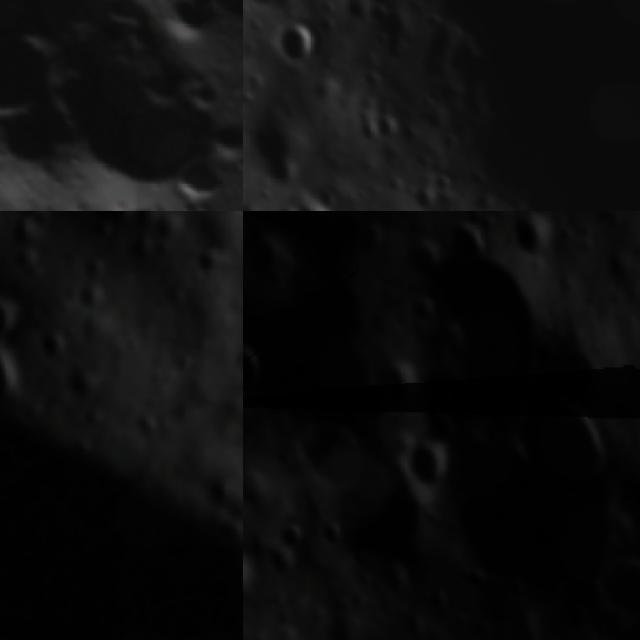crater: (34, 0, 243, 211), (423, 390, 623, 596), (404, 236, 545, 422), (0, 0, 152, 146), (297, 422, 423, 584), (520, 384, 614, 493), (0, 9, 68, 149), (243, 111, 308, 194), (166, 149, 235, 211), (591, 550, 640, 629), (441, 215, 492, 263), (406, 444, 449, 499), (274, 24, 320, 70), (511, 219, 558, 264), (243, 333, 268, 404), (0, 349, 24, 410), (0, 297, 30, 341), (103, 193, 168, 211), (360, 116, 400, 142), (93, 211, 136, 235), (243, 540, 255, 614), (322, 211, 371, 228), (405, 187, 439, 211), (425, 173, 454, 201), (243, 0, 288, 13)
